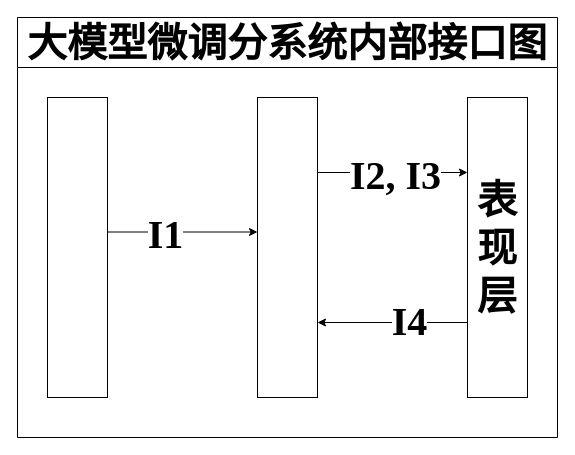
This 575x455 diagram has some shape labels left out. Here are the shapes that lost their labels. From the top down, the centre of each, then its label:
At (77,247): "数据层".
At (287,247): "逻辑处理层".
